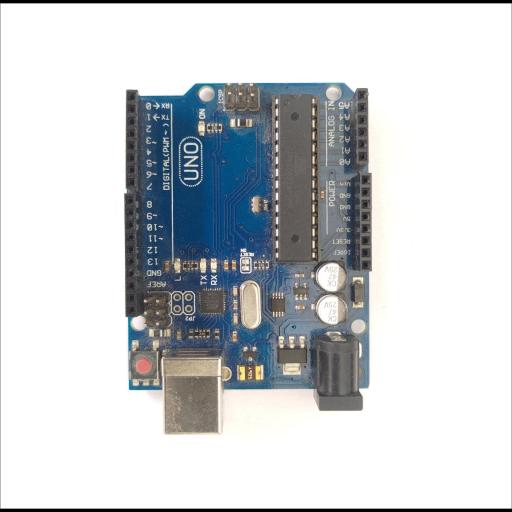Arduino Uno R3: (123, 81, 374, 430)
